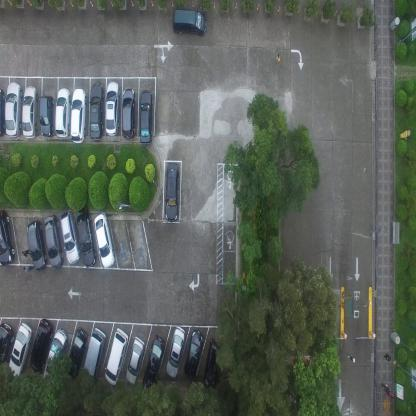car: (141, 334, 166, 394), (104, 327, 129, 386), (42, 327, 67, 384), (76, 204, 97, 268), (8, 321, 32, 376), (30, 316, 53, 373), (94, 211, 116, 269), (83, 327, 106, 381), (60, 208, 80, 264), (124, 336, 146, 386), (166, 325, 186, 380), (182, 331, 204, 381), (172, 7, 208, 37), (45, 213, 64, 269), (27, 219, 48, 269), (202, 338, 221, 392), (67, 328, 87, 379), (164, 161, 180, 223), (6, 80, 23, 138), (0, 209, 16, 266), (23, 84, 39, 139), (72, 87, 87, 145), (90, 81, 104, 141), (56, 87, 72, 139), (0, 320, 15, 375), (140, 89, 154, 146), (106, 80, 120, 137), (122, 89, 137, 140), (40, 93, 55, 138), (0, 86, 6, 138)
